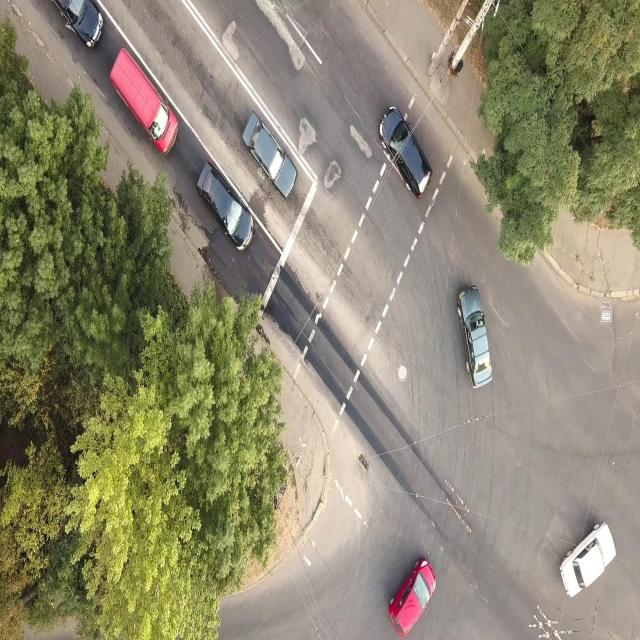Car: (194, 156, 255, 262), (380, 99, 432, 202), (242, 111, 298, 197), (559, 520, 619, 600), (388, 548, 439, 638), (456, 283, 493, 398)
Van: (110, 39, 180, 160)
